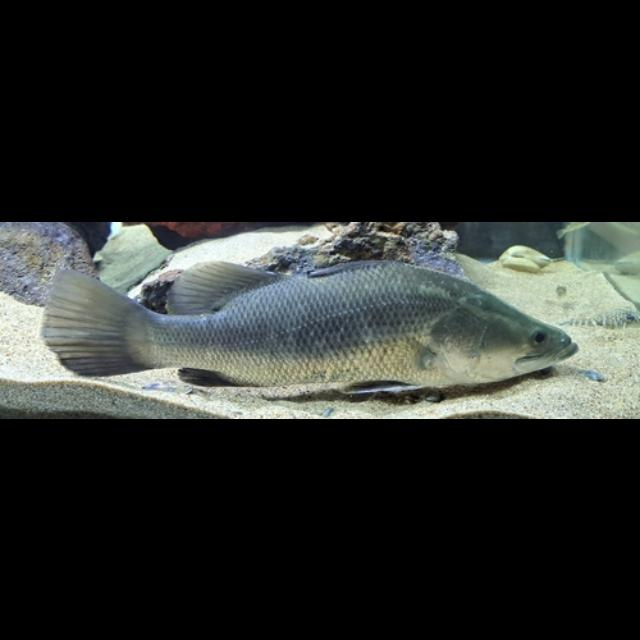Seabass: (42, 258, 580, 394)
